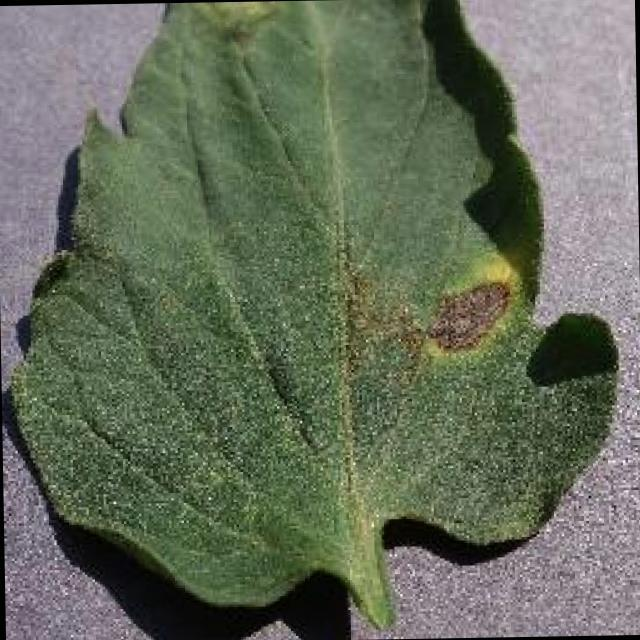Tomato Early blight leaf: (0, 0, 619, 610)
